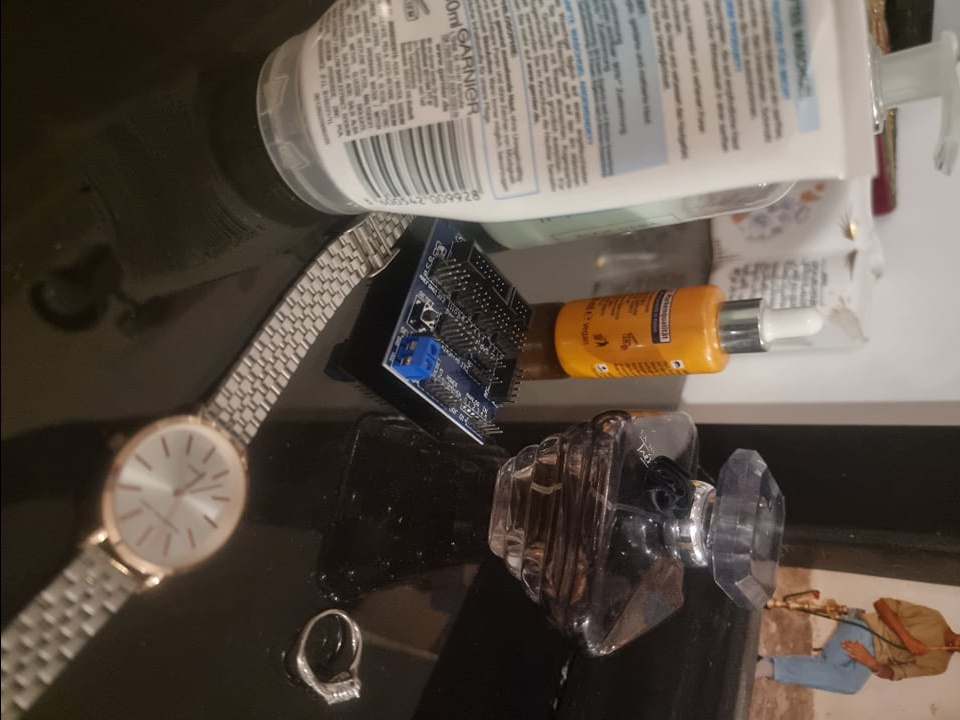SENSOR: (381, 213, 542, 446)
